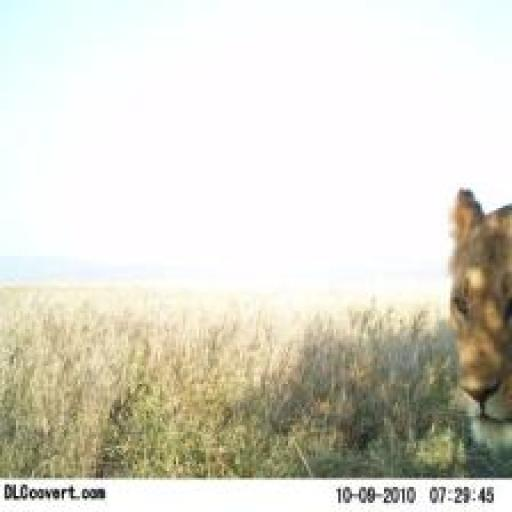lion: (432, 144, 512, 478)
